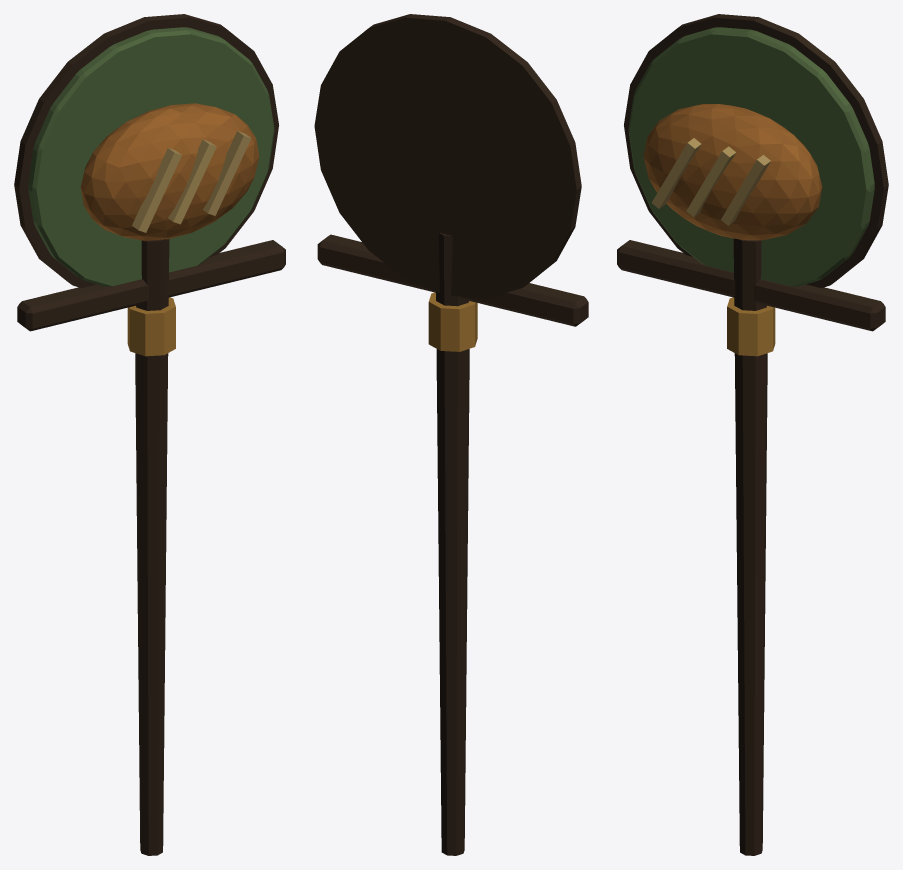
The model's file is sign_baker.glb.
3 renders of one model, left to right at view 1: azimuth 30°, elevation 25°; view 2: azimuth 150°, elevation 25°; view 3: azimuth 330°, elevation 25°, orthographic.
Visible parts, largest first — view 1: sign_baker; view 2: sign_baker; view 3: sign_baker.
Part boxes in pixels (left/top/right/bottom): sign_baker: left=14, top=14, right=285, bottom=855; sign_baker: left=314, top=14, right=588, bottom=855; sign_baker: left=617, top=14, right=888, bottom=855.
Size of the model in its own units: 1.39 by 4.25 by 0.5192.
